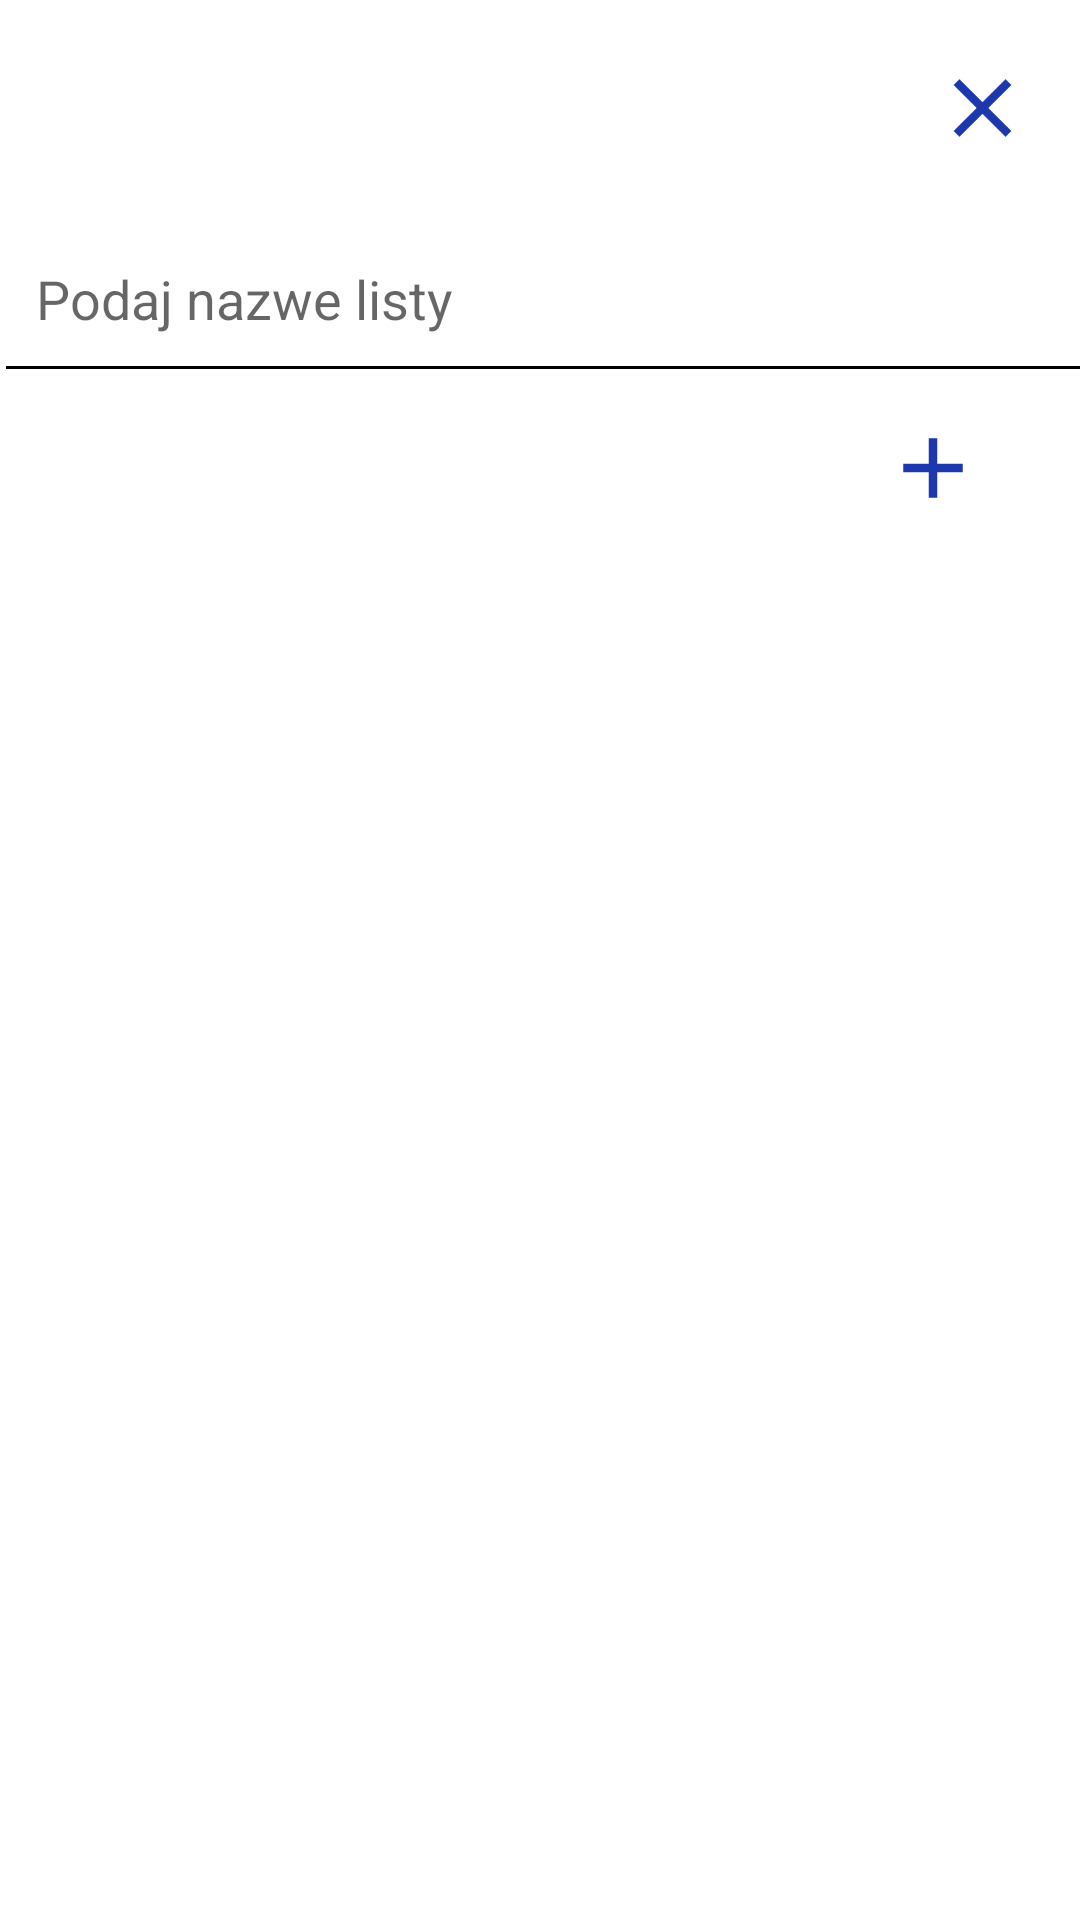

Icon bounding boxes for this 1080*1920 phone screenshot, format box(x1, y1, x2, y2):
add prod: box(903, 438, 963, 498)
close prod: box(954, 79, 1011, 137)
